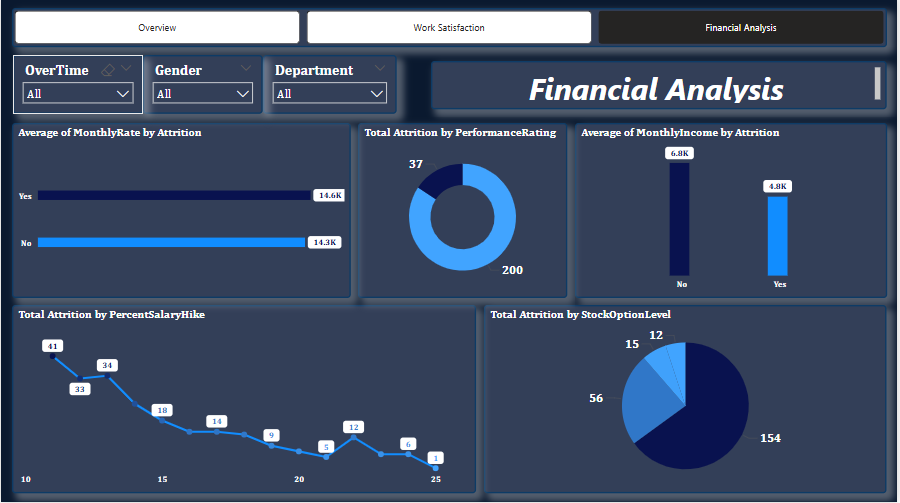

What the dashboard file says about the page in this screenshot:
{"tool":"powerbi","page":{"name":"Financial Analysis","canvas":[1280,720],"ordinal":2},"visuals":[{"type":"columnChart","fields":{"Category":["HR-Employee-Attrition.Attrition"],"Y":["Avg(HR-Employee-Attrition.MonthlyIncome)"]},"box":[820,178.6,445.7,250],"z":2},{"type":"pieChart","title":"Total Attrition by StockOptionLevel","fields":{"Category":["HR-Employee-Attrition.StockOptionLevel"],"Y":["HR-Employee-Attrition.Total Attrition"]},"box":[690.2,438,575.4,269.3],"z":3},{"type":"lineChart","title":"Total Attrition by PercentSalaryHike","fields":{"Category":["HR-Employee-Attrition.PercentSalaryHike"],"Y":["HR-Employee-Attrition.Total Attrition"]},"box":[15.6,438,663.3,269.3],"z":4},{"type":"donutChart","title":"Total Attrition by PerformanceRating","fields":{"Category":["HR-Employee-Attrition.PerformanceRating"],"Y":["HR-Employee-Attrition.Total Attrition"]},"box":[510,178.6,298.6,250],"z":5},{"type":"barChart","fields":{"Category":["HR-Employee-Attrition.Attrition"],"Y":["Avg(HR-Employee-Attrition.MonthlyRate)"]},"box":[15.7,178.6,484.3,250],"z":7},{"type":"textbox","box":[614.3,90,651.4,68.6],"z":8},{"type":"pageNavigator","box":[15.7,14.3,1250,55.7],"z":9},{"type":"slicer","fields":{"Values":["HR-Employee-Attrition.Department"]},"box":[374.3,81.4,191.4,84.3],"z":10},{"type":"slicer","fields":{"Values":["HR-Employee-Attrition.Gender"]},"box":[202.9,81.4,171.4,84.3],"z":11},{"type":"slicer","fields":{"Values":["HR-Employee-Attrition.OverTime"]},"box":[17.1,81.4,185.7,84.3],"z":12}]}

Visuals, with their boxes in screenshot pixels (x1, y1, x2, y2), scaled from the page's 1280x720 canvas onto the 900x503 screenshot:
columnChart - HR-Employee-Attrition.Attrition x Avg(HR-Employee-Attrition.MonthlyIncome): (577,125,890,299)
"Total Attrition by StockOptionLevel" pieChart: (485,306,890,494)
"Total Attrition by PercentSalaryHike" lineChart: (11,306,477,494)
"Total Attrition by PerformanceRating" donutChart: (359,125,569,299)
barChart - HR-Employee-Attrition.Attrition x Avg(HR-Employee-Attrition.MonthlyRate): (11,125,352,299)
textbox: (432,63,890,111)
pageNavigator: (11,10,890,49)
slicer - HR-Employee-Attrition.Department: (263,57,398,116)
slicer - HR-Employee-Attrition.Gender: (143,57,263,116)
slicer - HR-Employee-Attrition.OverTime: (12,57,143,116)
